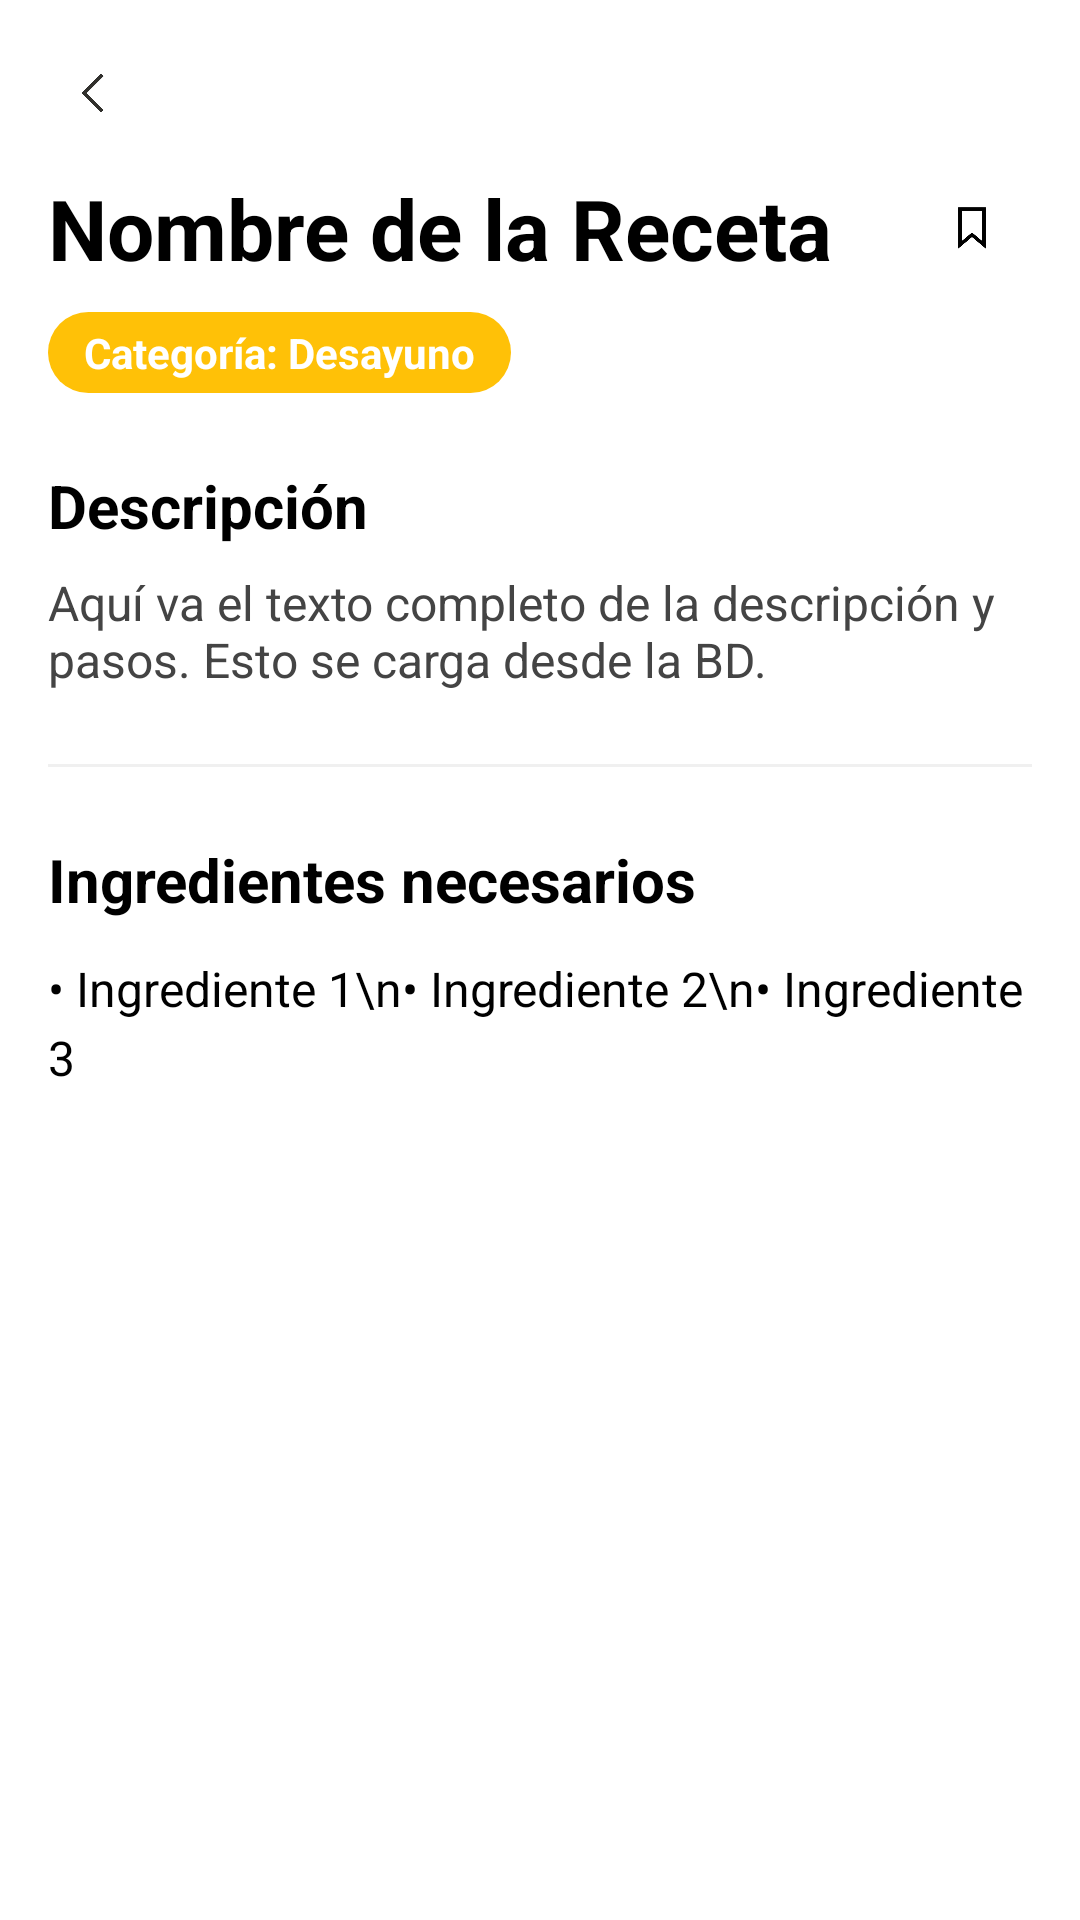

Where icons sit on this 1080*1920 app screen, as (x1, y1, x2, y2):
guardar receta: (958, 207, 986, 249)
volver: (82, 74, 103, 112)
